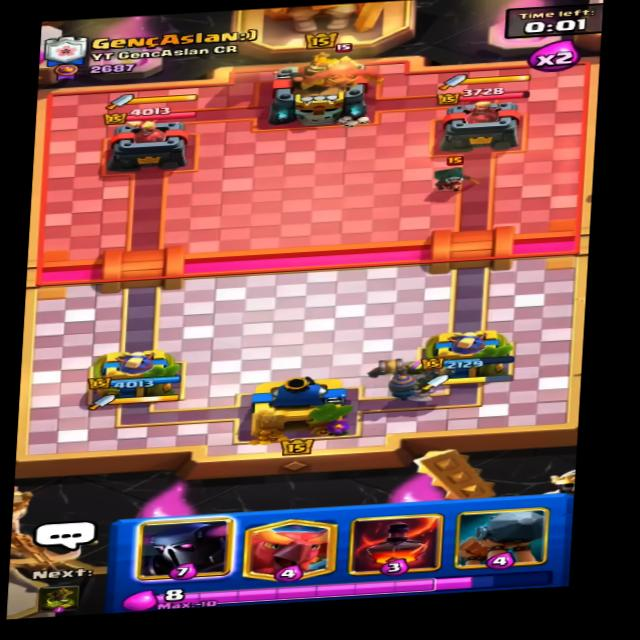bandit: (426, 155, 480, 196)
phoenix: (284, 41, 400, 99)
